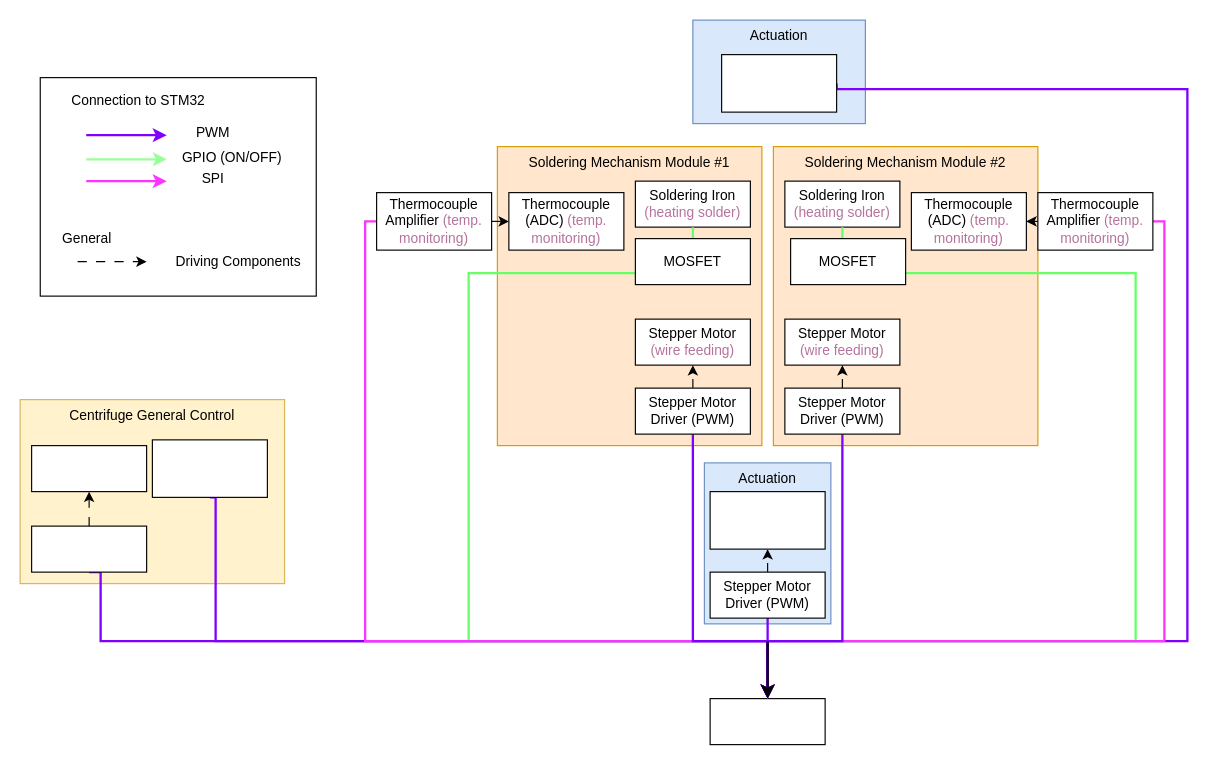
The diagram is 1218 pixels wide and 765 high, and some of its shapes have lost their labels. The shapes that lost their labels are listed below. From the top down, each one's centre as x and y in pixels, then its label:
At point 778,82: "Servo Motor (PWM) (pushes irons in & out)".
At point 88,468: "DC Motor (spins centrifuge)".
At point 209,468: "Motor Encoder (centrifuge speed monitoring)".
At point 767,519: "Stepper Motor (spins soldering iron mechanism)".
At point 88,548: "DC Motor Driver (PWM)".
At point 767,721: "STM32".
